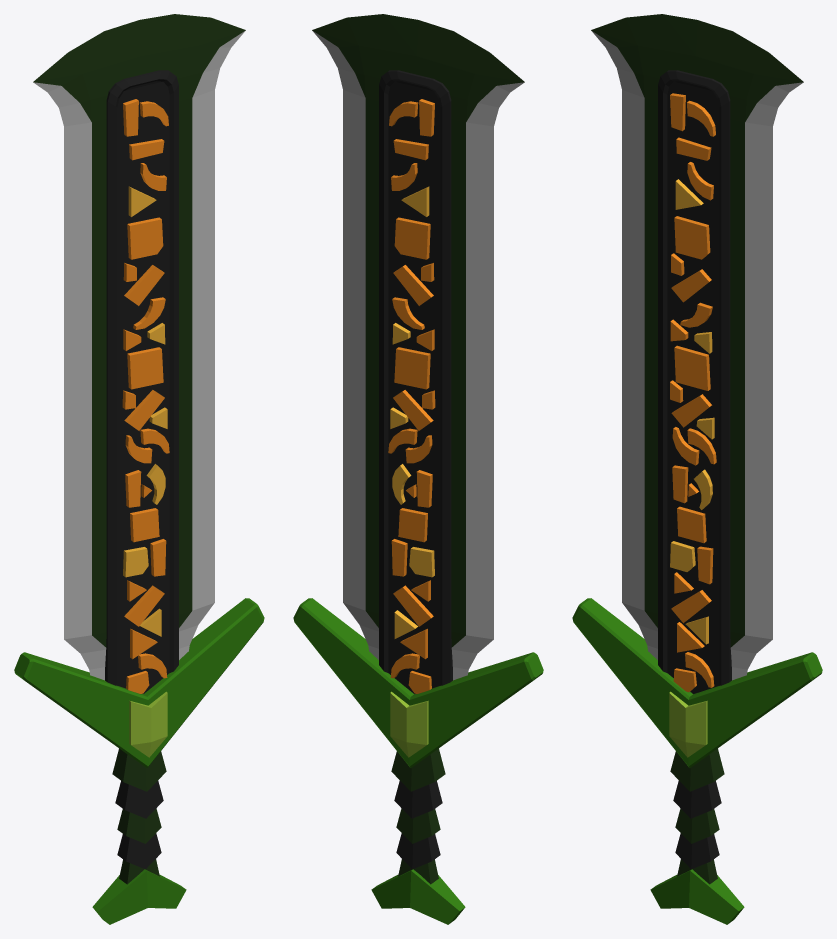
The picture shows the model from 3 angles, left to right: view 1: azimuth 30°, elevation 25°; view 2: azimuth 150°, elevation 25°; view 3: azimuth 330°, elevation 25°; orthographic projection.
Parts seen in each view (by area): view 1: sword11; view 2: sword11; view 3: sword11.
Part boxes in pixels (x1,y1,x2,y2): sword11: (14,14,264,924); sword11: (293,14,543,924); sword11: (572,14,822,924).
Size of the model in its own units: 48.16 by 8.25 by 170.
Materials: 1 (1 with a texture image).
